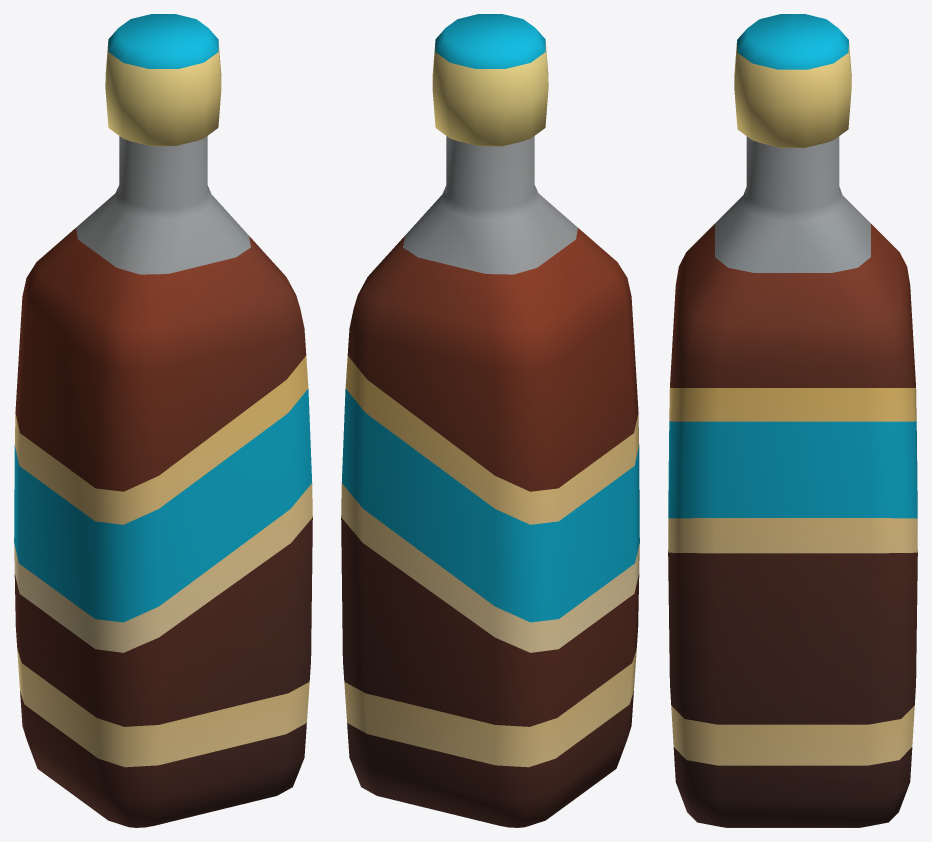
File: bottle_016.fbx
3 views of the same model, side by side, from view 1: azimuth 30°, elevation 25°; view 2: azimuth 150°, elevation 25°; view 3: azimuth 270°, elevation 25° (orthographic).
Parts seen in each view (by area): view 1: bottle_016; view 2: bottle_016; view 3: bottle_016.
Part boxes in pixels (left/top/right/bottom): bottle_016: left=14, top=14, right=312, bottom=827; bottle_016: left=341, top=14, right=639, bottom=827; bottle_016: left=668, top=14, right=917, bottom=827.
Bounding box in the file's own units: 8.45 × 8.47 × 28.5.
